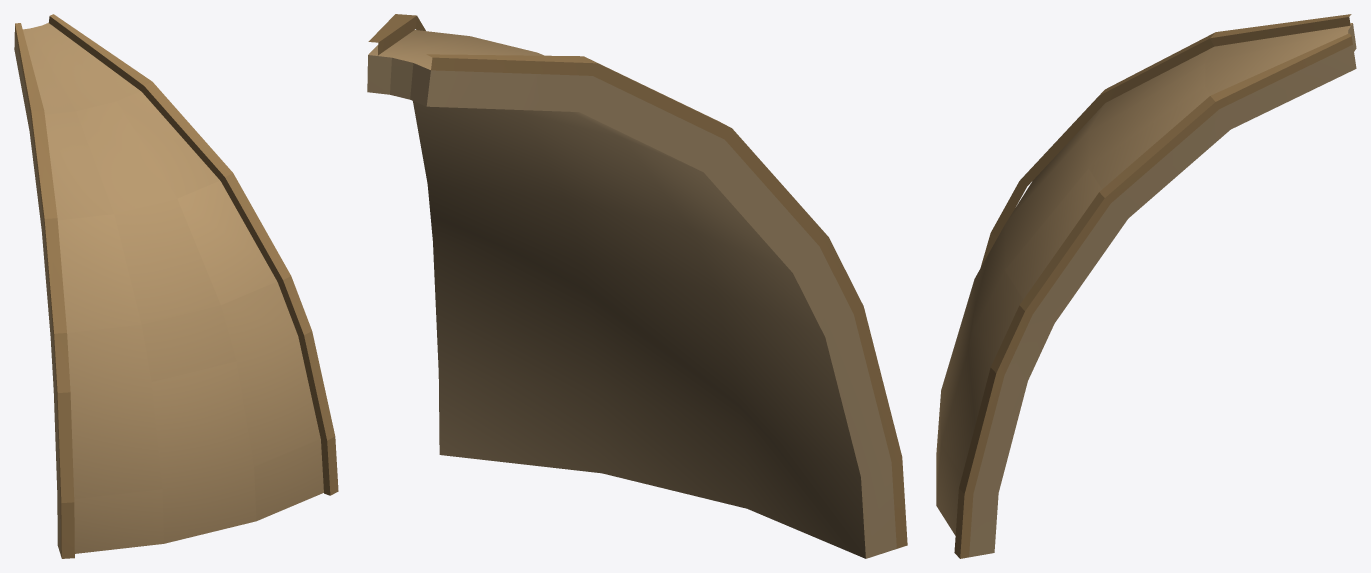
The model's file is dome.panel_8.sandstone.glb.
3 renders of one model, left to right at view 1: azimuth 30°, elevation 25°; view 2: azimuth 150°, elevation 25°; view 3: azimuth 270°, elevation 25°, orthographic. The views are drawn at different scales.
Parts seen in each view (by area): view 1: dome_panel_8_sandstone; view 2: dome_panel_8_sandstone; view 3: dome_panel_8_sandstone.
Part boxes in pixels (x1,y1,x2,y2): dome_panel_8_sandstone: [14, 14, 338, 558]; dome_panel_8_sandstone: [367, 14, 907, 558]; dome_panel_8_sandstone: [936, 14, 1356, 558].
Size of what is drawn, in the model's own units: 2.73 by 3.63 by 3.05.
